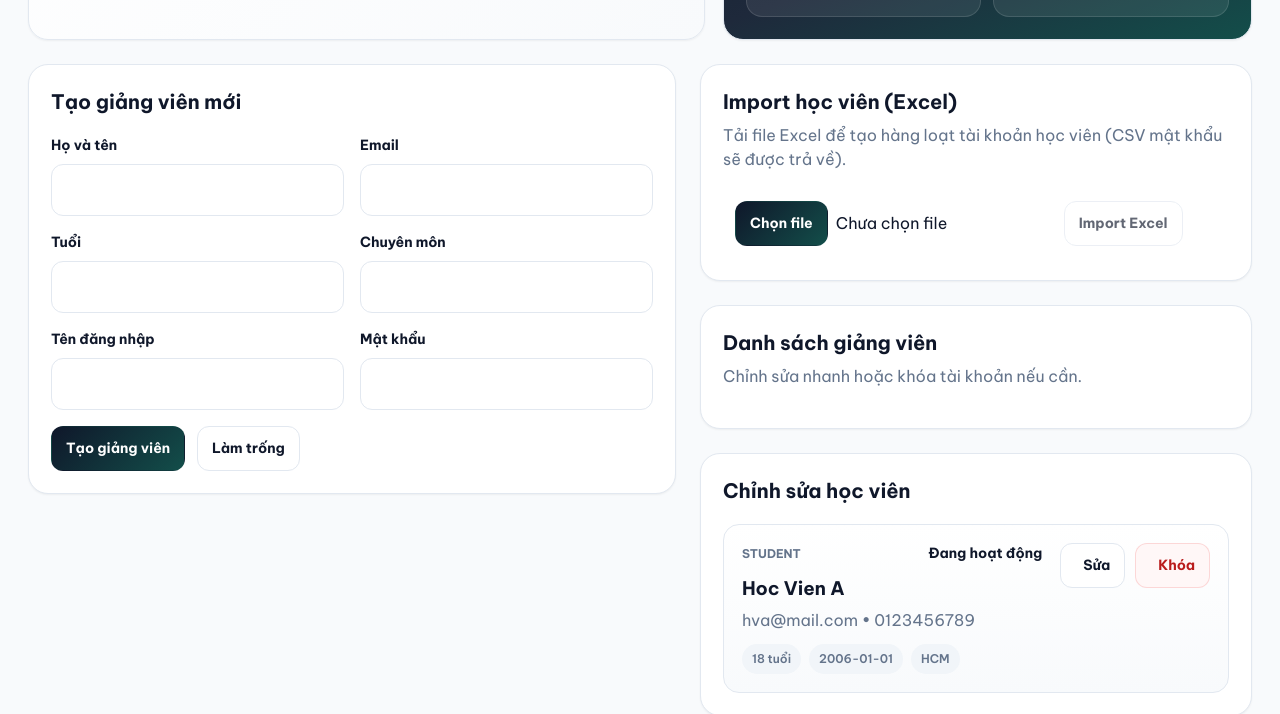
it: AdminUsersPage › cap nhat hoc vien thanh cong
(page scrolled)
Click the button "Sửa".
click(1093, 565)  # box [1060, 543, 1125, 588]
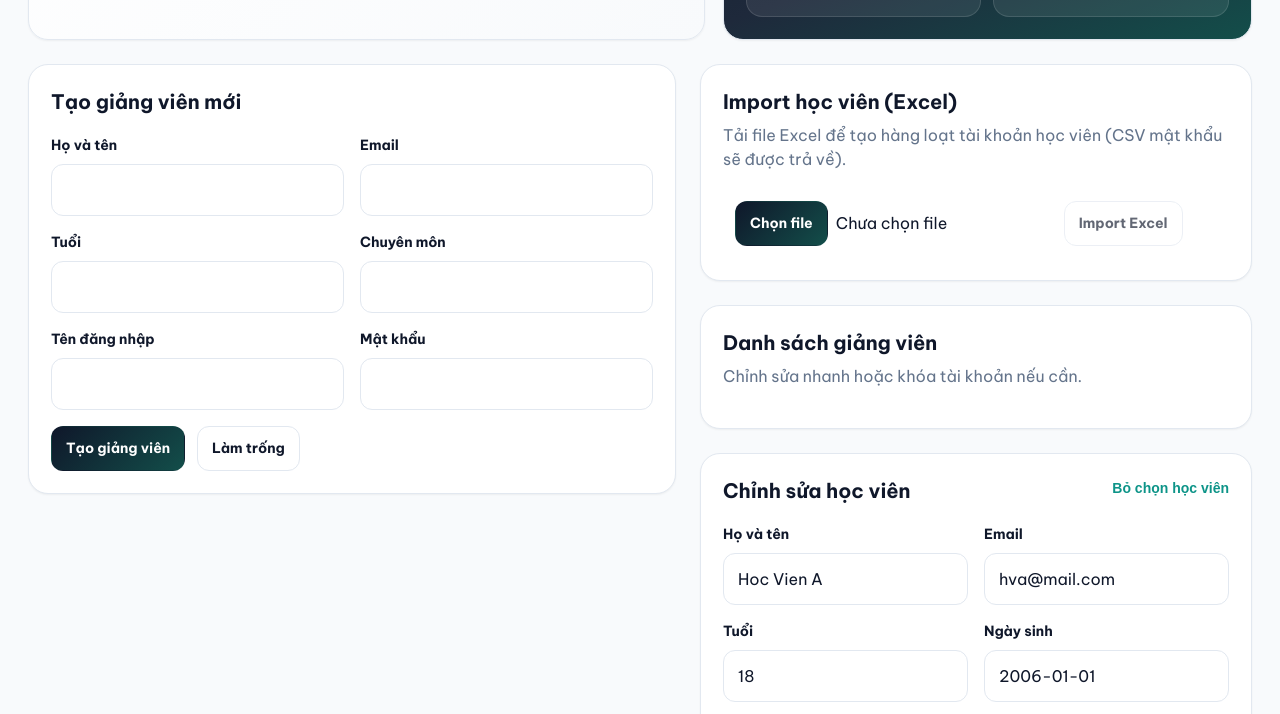
Replace the text in the field labelled "Họ và tên" below "Chỉnh sửa học viên" with "Hoc Vien Updated" at (846, 579), box [723, 553, 968, 605]
Replace the text in the field labelled "Email" below "Chỉnh sửa học viên" with "updated@mail.com" at (1106, 579), box [984, 553, 1229, 605]
Replace the text in the number field labelled "Tuổi" below "Ngày sinh" with "20" at (846, 676), box [723, 650, 968, 702]
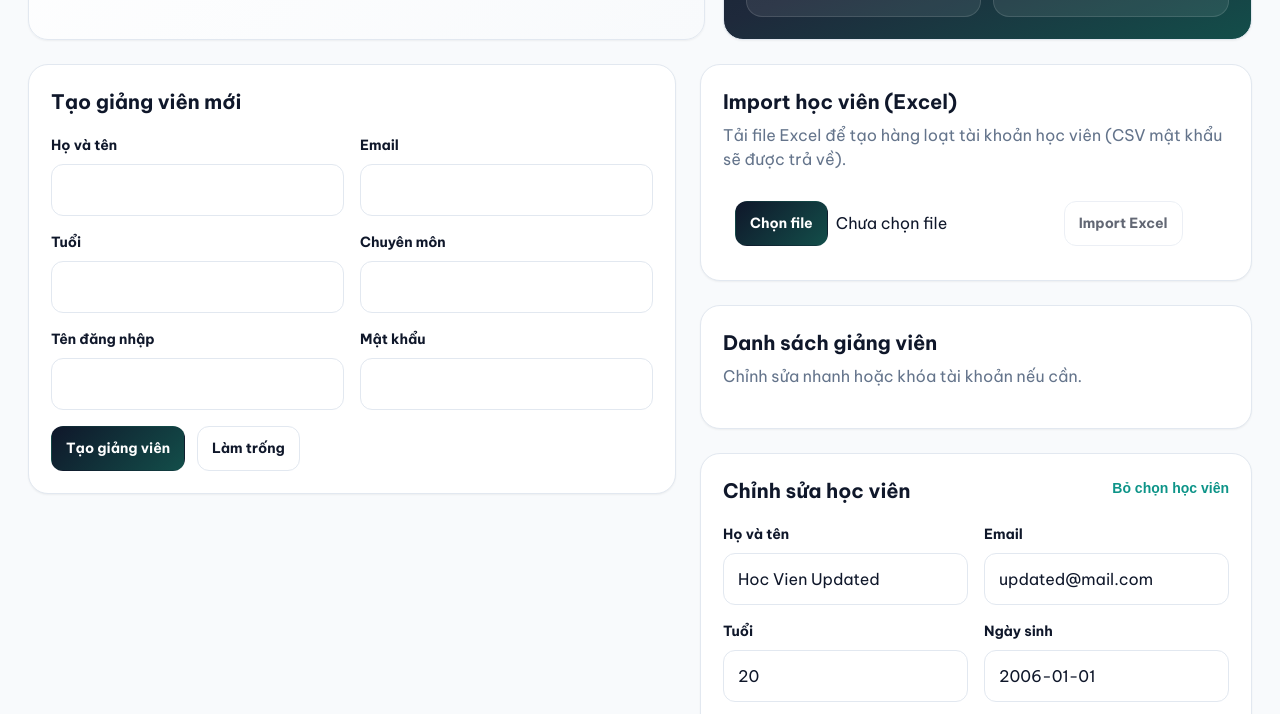
Replace the text in the field labelled "Ngày sinh" with "2004-10-10" at (1106, 676), box [984, 650, 1229, 702]
(page scrolled)
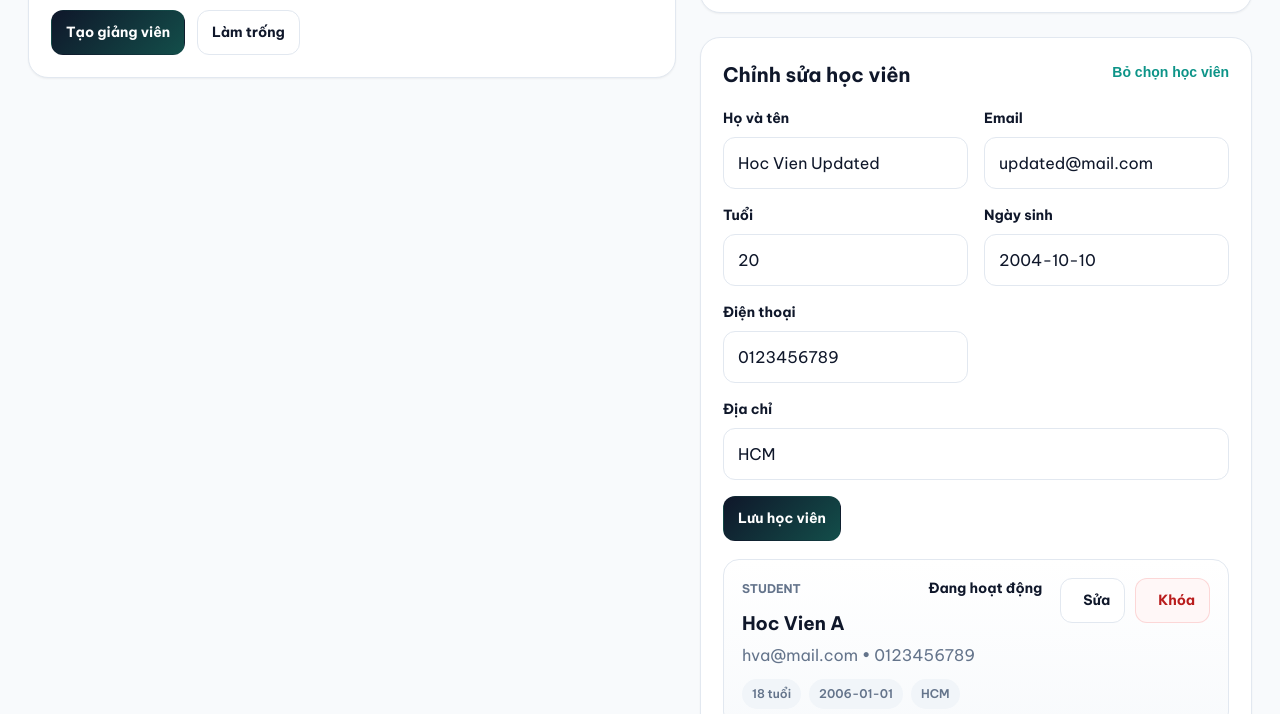
Replace the text in the field labelled "Điện thoại" with "0999999999" at (846, 357), box [723, 331, 968, 383]
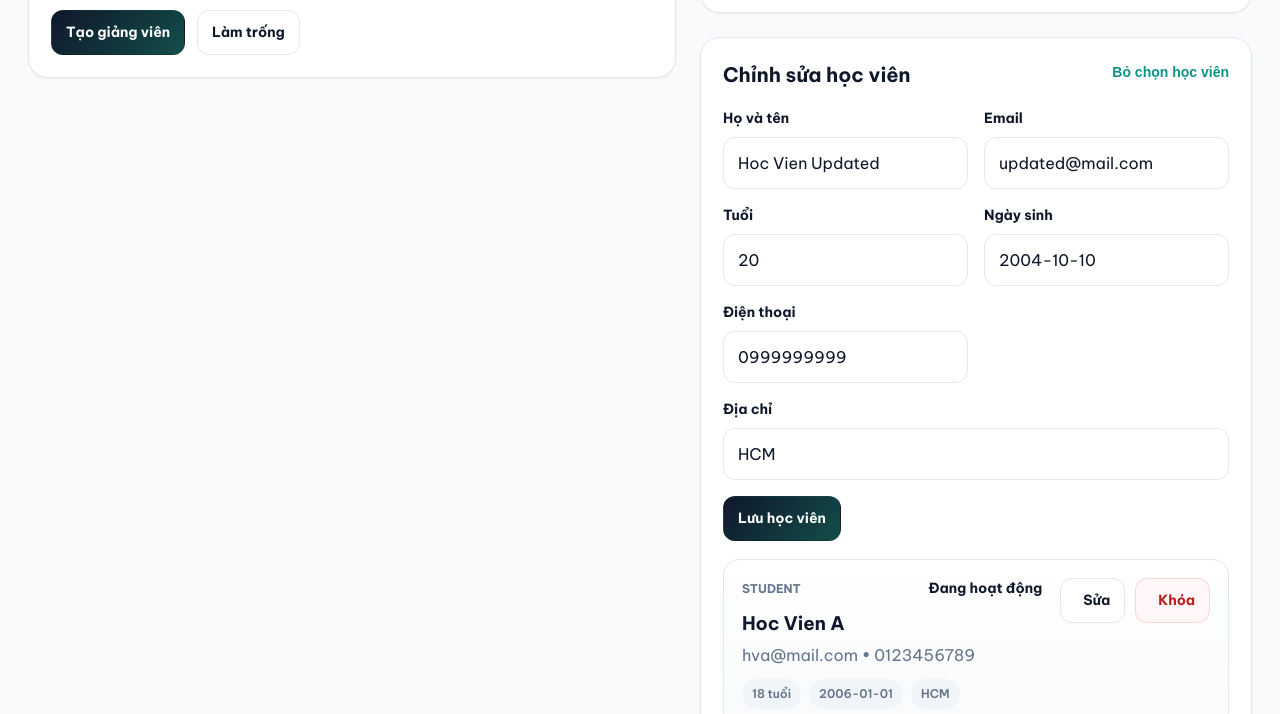
Replace the text in the field labelled "Địa chỉ" with "Can Tho" at (976, 454), box [723, 428, 1229, 480]
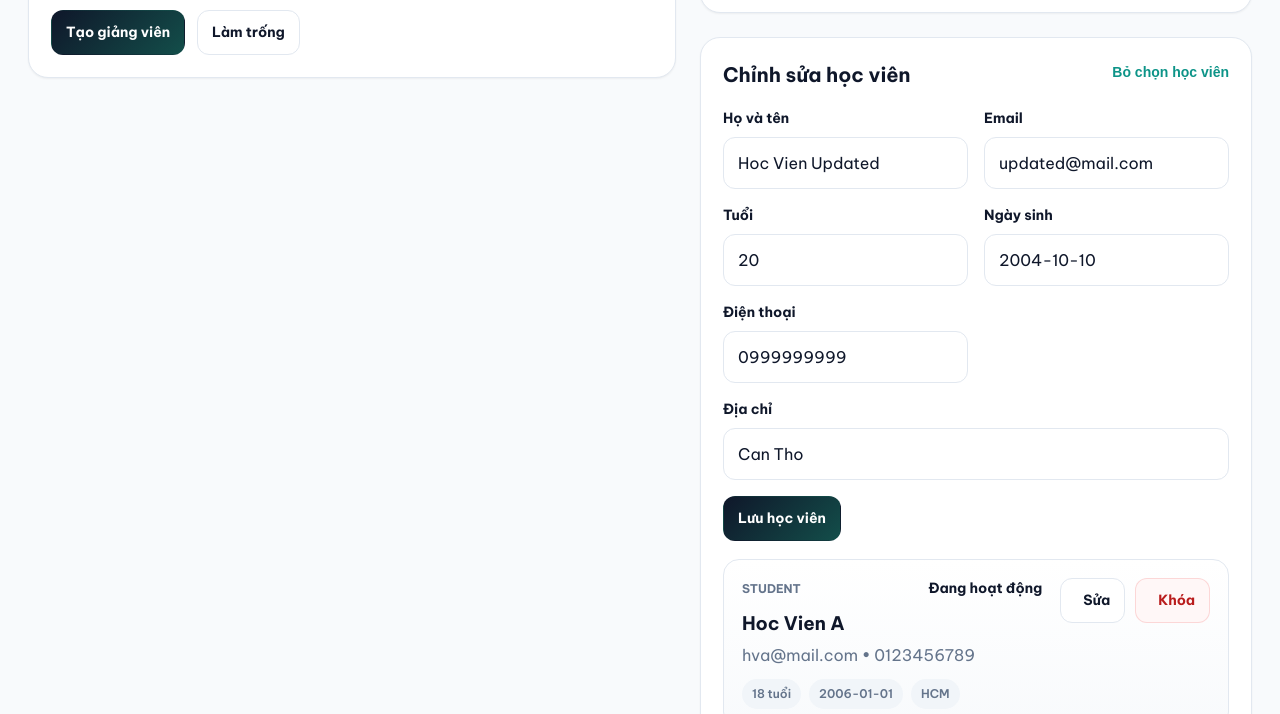
Click the button "Lưu học viên".
click(782, 518)  # box [723, 496, 841, 541]
(page scrolled)
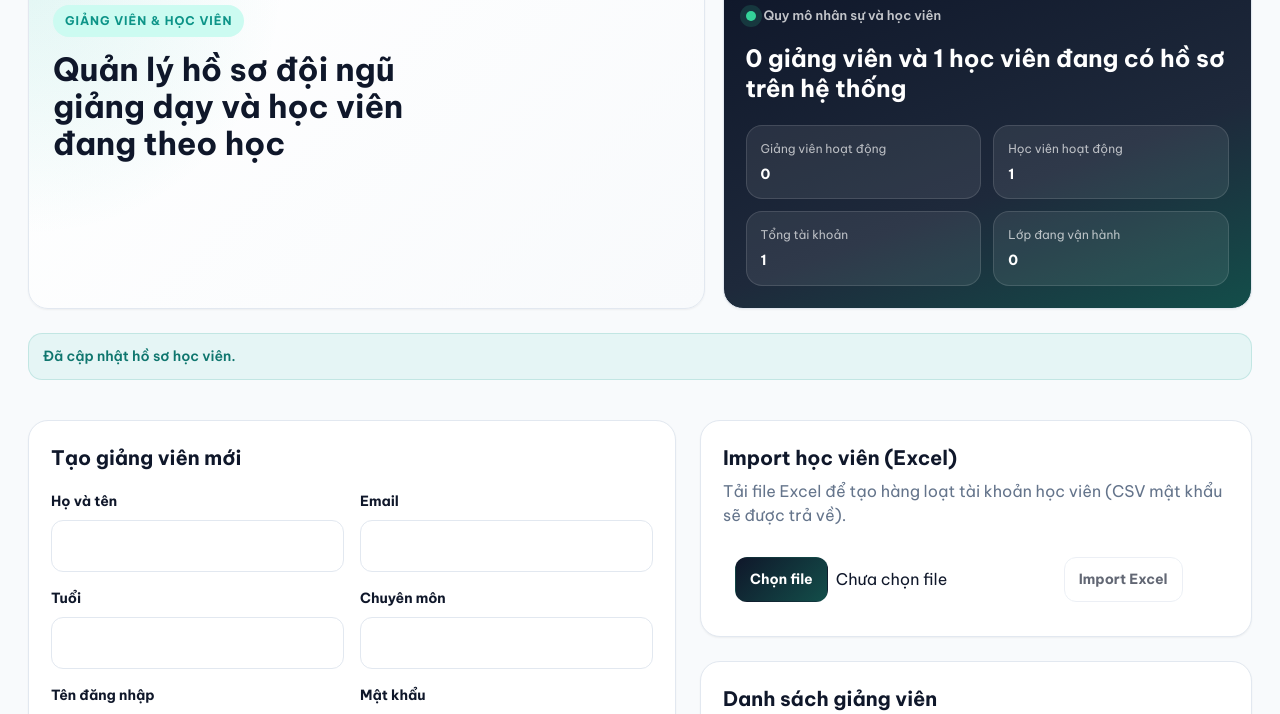
Expected: the text "Đã cập nhật hồ sơ học viên." is shown, [28, 333, 1252, 380]
